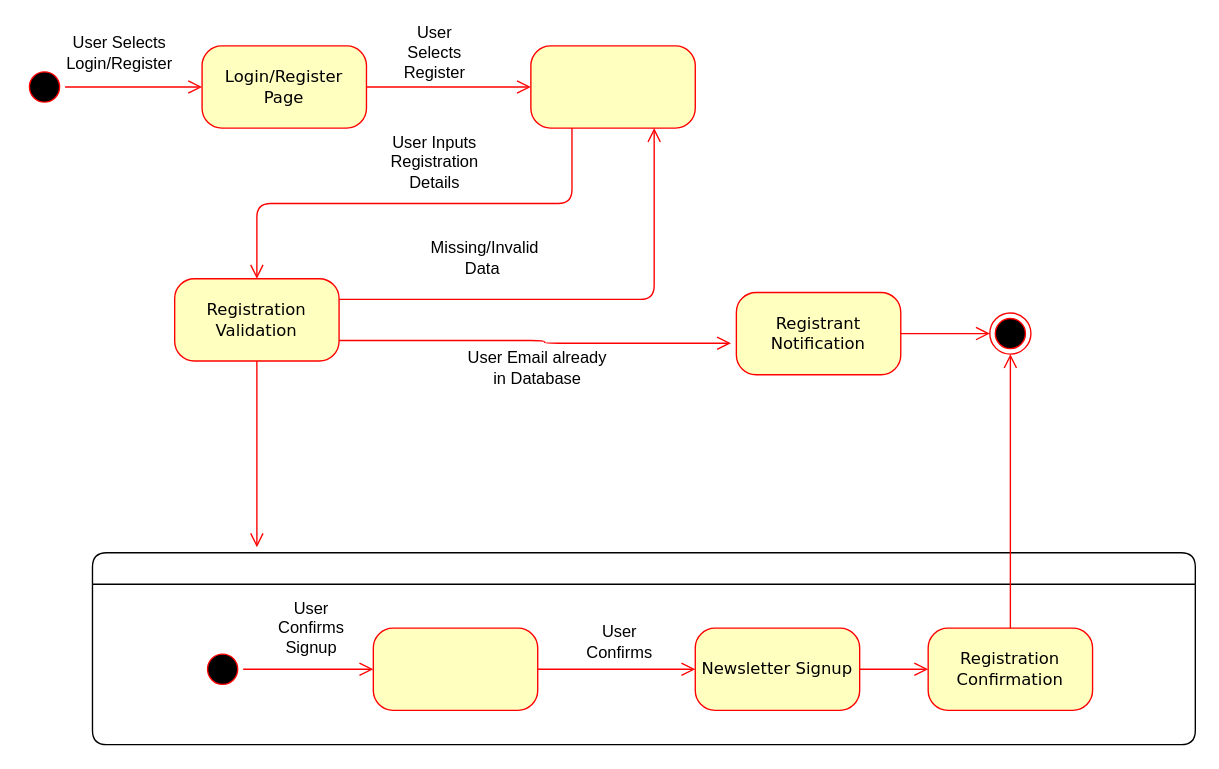
Image size: 1219x769. Some labels were removed from this diagram. The box of each missing label's shape, as (x1, y1, x2, y2) in pixels:
Confirmation Email: (372, 627, 538, 710)
Registration Fields: (530, 45, 695, 128)
Registration Finalization: (91, 551, 1195, 745)
